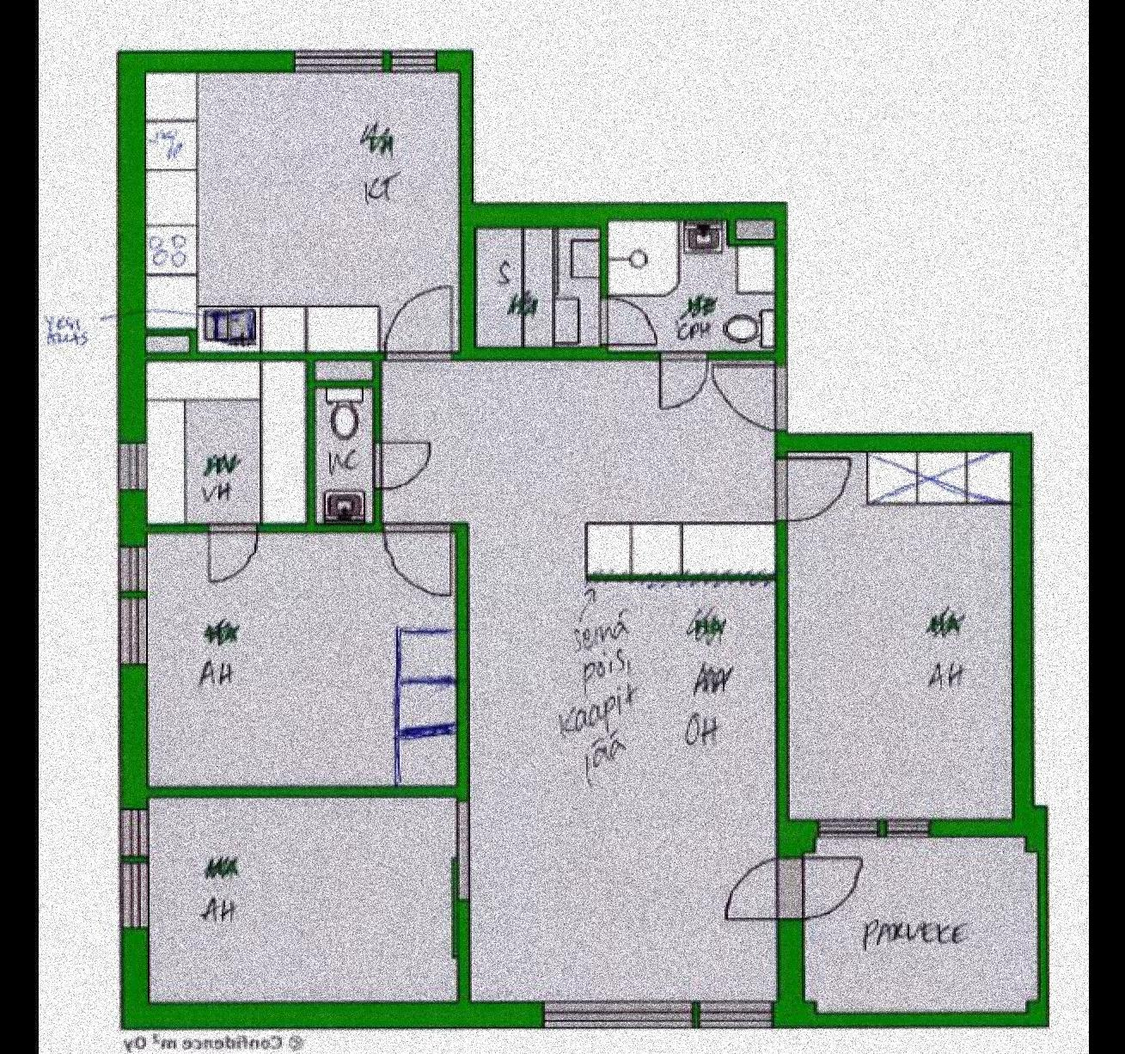door: (727, 852, 863, 924), (383, 281, 459, 368), (385, 521, 457, 607), (770, 453, 856, 522), (712, 358, 793, 430), (208, 517, 269, 588), (655, 353, 709, 418), (375, 437, 432, 488), (600, 298, 654, 344)
window: (539, 994, 770, 1033), (543, 999, 781, 1029), (294, 47, 436, 76), (118, 803, 148, 935), (115, 544, 144, 662), (819, 815, 929, 837), (118, 441, 150, 493)
zone: (471, 355, 772, 993), (146, 70, 459, 346), (787, 448, 1011, 821), (146, 533, 452, 785), (148, 797, 458, 1002), (802, 834, 1039, 1006), (477, 216, 777, 345), (146, 361, 375, 521), (379, 366, 474, 519)
